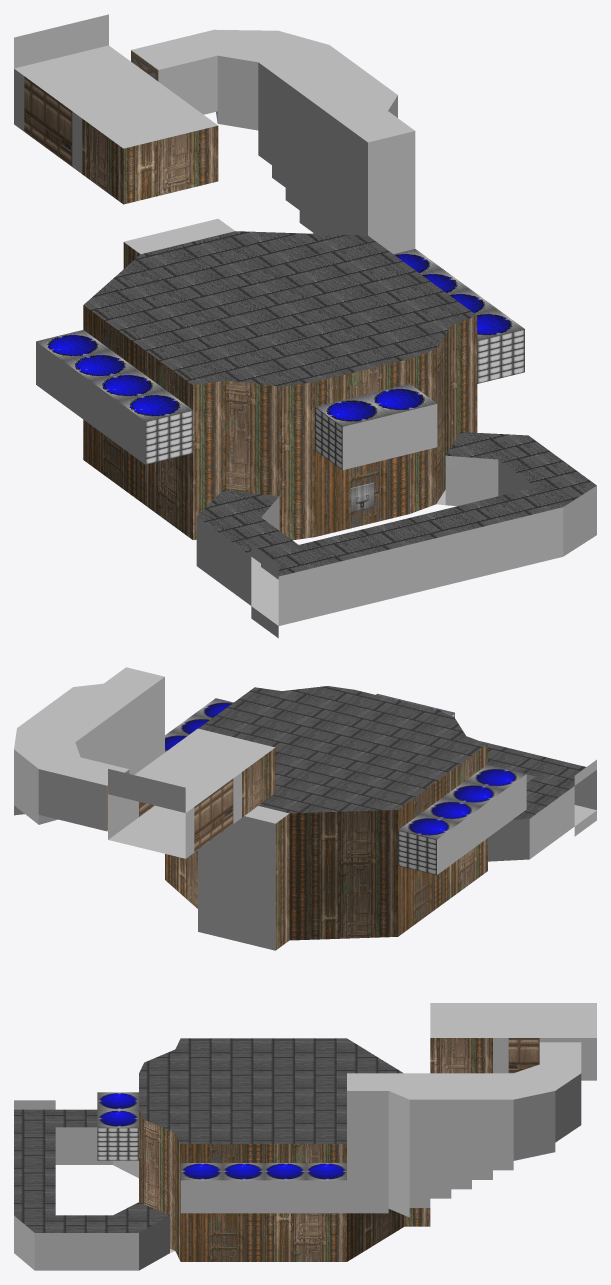
Rendered from untitled_room4.fbx.
The picture shows the model from 3 angles, top to bottom: view 1: azimuth 30°, elevation 25°; view 2: azimuth 150°, elevation 25°; view 3: azimuth 270°, elevation 25°; orthographic projection. The views are drawn at different scales.
Visible parts, largest first — view 1: E1M2; view 2: E1M2; view 3: E1M2.
Part boxes in pixels (left/top/right/bottom): E1M2: left=14, top=14, right=596, bottom=638; E1M2: left=14, top=667, right=596, bottom=950; E1M2: left=14, top=1003, right=596, bottom=1270.
Bounding box in the file's own units: 54400 × 37600 × 89600.
